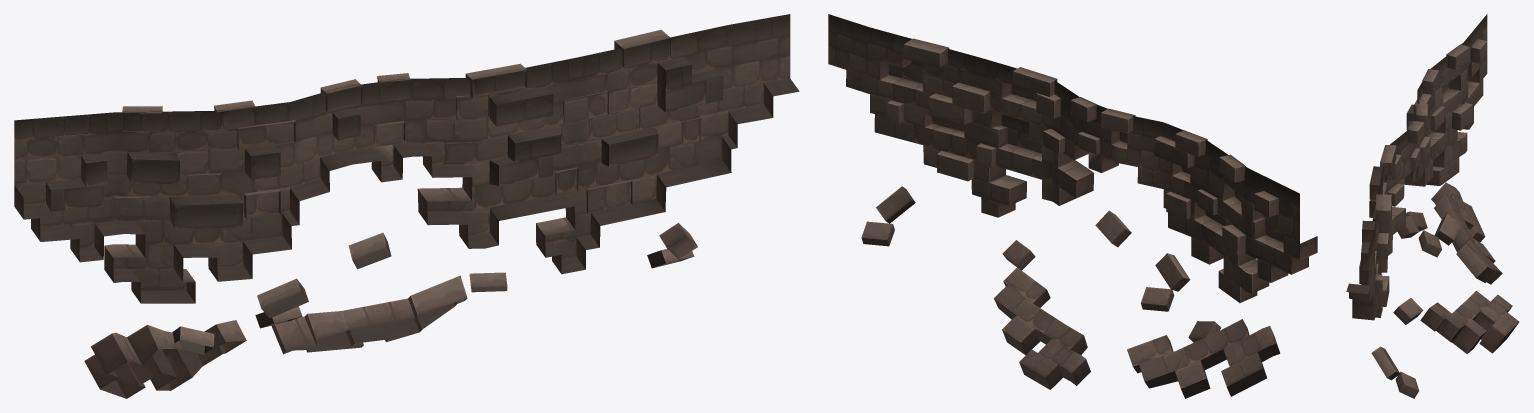
File: sc_dungeon_moshenta_ta_003.FBX
3 renders of one model, left to right at view 1: azimuth 30°, elevation 25°; view 2: azimuth 150°, elevation 25°; view 3: azimuth 270°, elevation 25°, orthographic. The views are drawn at different scales.
Visible parts, largest first — view 1: sc_dungeon_moshenta_ta_003; view 2: sc_dungeon_moshenta_ta_003; view 3: sc_dungeon_moshenta_ta_003.
Boxes of the visible parts, <box> form: sc_dungeon_moshenta_ta_003: <box>14,14,799,398</box>; sc_dungeon_moshenta_ta_003: <box>828,14,1317,398</box>; sc_dungeon_moshenta_ta_003: <box>1346,14,1519,398</box>.
Bounding box in the file's own units: 47.25 × 14.57 × 20.54.
1 material, 1 textured.
